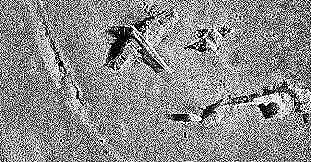plane: (106, 7, 179, 74)
